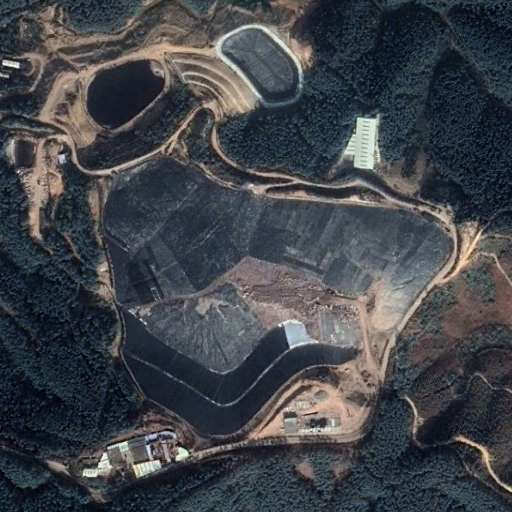lf: (101, 156, 457, 441)
